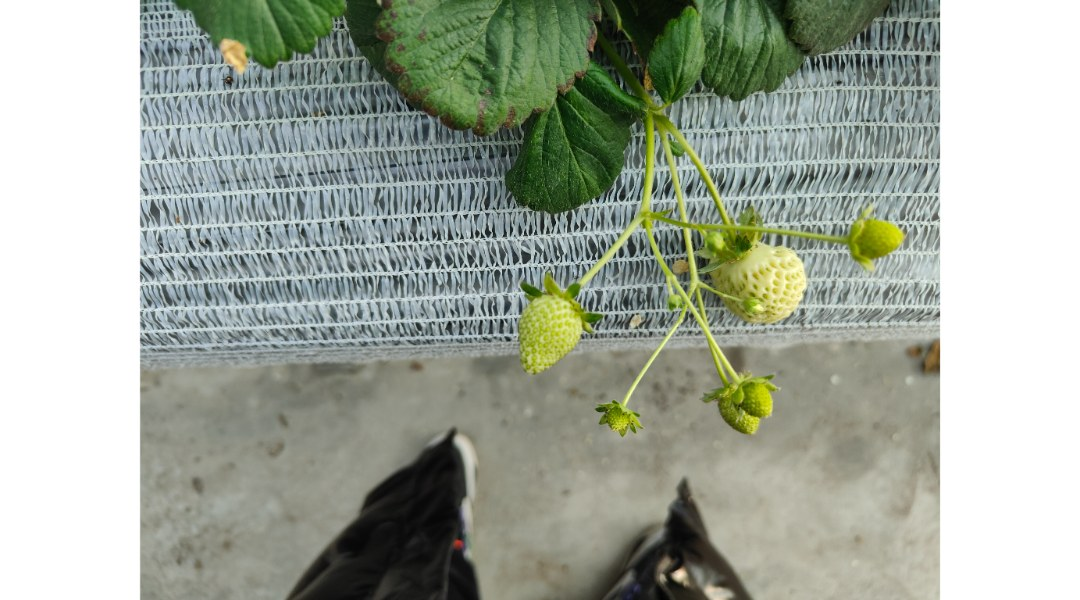berry: (500, 280, 594, 383), (702, 233, 814, 313), (710, 360, 764, 437), (844, 203, 899, 269), (729, 370, 777, 429), (586, 401, 649, 444)
strain: (619, 309, 682, 409), (568, 217, 641, 300), (657, 210, 839, 242), (683, 135, 729, 215), (640, 122, 661, 215)
